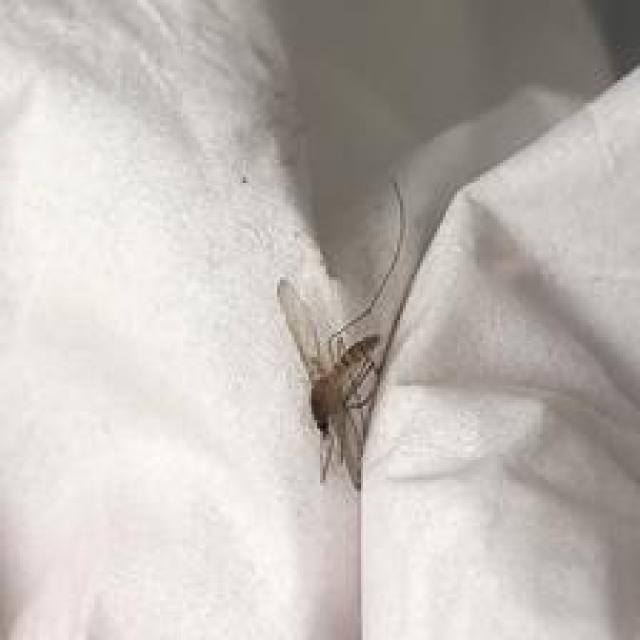Culex: (274, 179, 409, 490)
